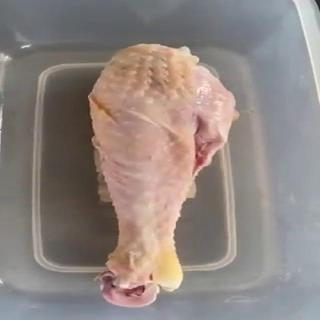Ayam: (88, 44, 240, 308)
